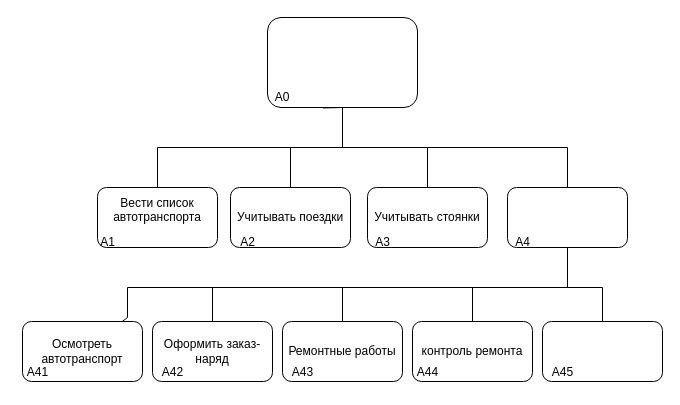
The diagram is 680 pixels wide and 405 high, and some of its shapes have lost their labels. The shapes that lost their labels are listed below. From the top down, each one's box as (x1, y1, x2, y2) in pixels, then its label:
(266, 16, 418, 108): Поддержка оперативной деятельности транспортной компании
(506, 186, 628, 248): Учитывать ремонтные работы
(542, 320, 662, 382): Оформление квитанции для оплаты
